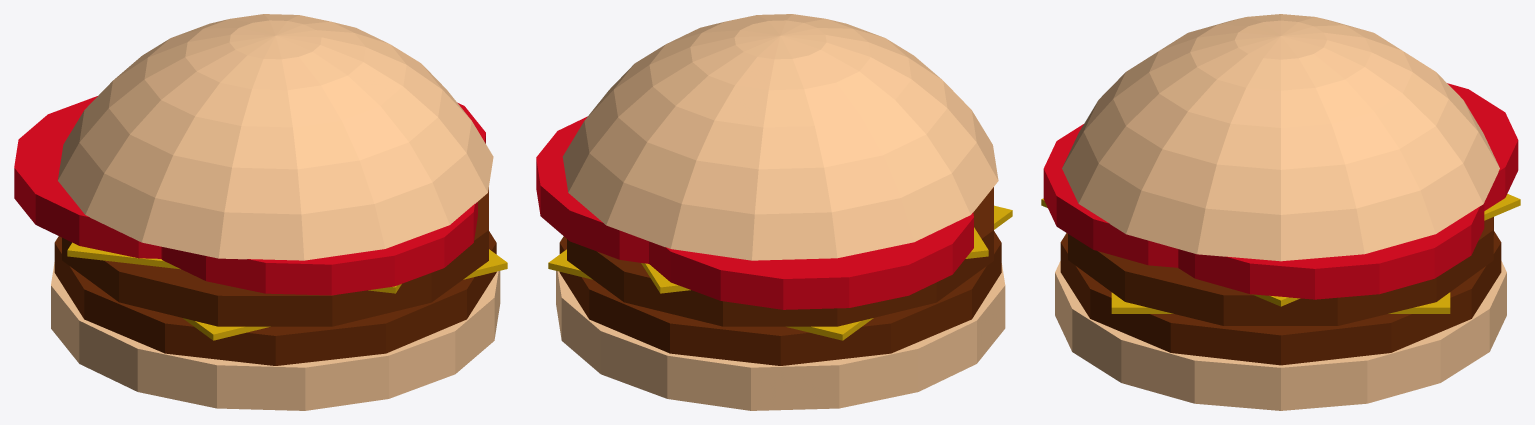
File: cheeseburger.glb
3 views of the same model, side by side, from view 1: azimuth 30°, elevation 25°; view 2: azimuth 150°, elevation 25°; view 3: azimuth 270°, elevation 25° (orthographic).
Parts seen in each view (by area): view 1: Cylinder; view 2: Cylinder; view 3: Cylinder.
Part boxes in pixels (x1,y1,x2,y2): Cylinder: (14, 14, 507, 410); Cylinder: (536, 14, 1012, 410); Cylinder: (1041, 14, 1520, 410).
Bounding box in the file's own units: 0.1414 × 0.091 × 0.1414.
